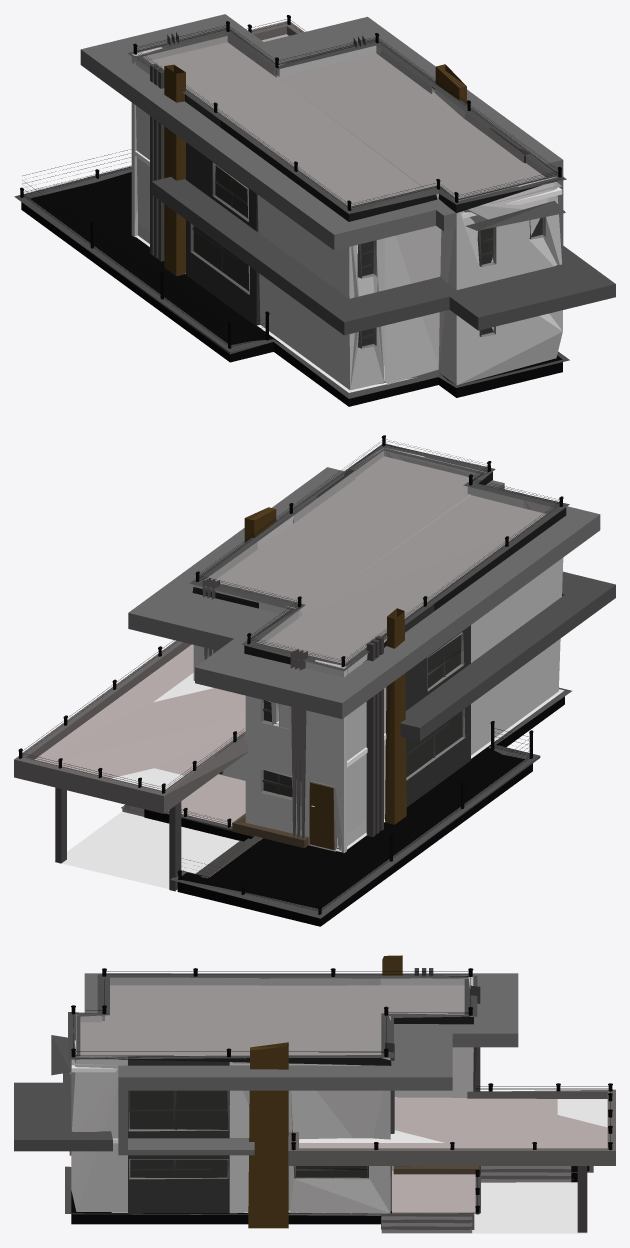
Rendered from house-7marla.glb.
3 renders of one model, top to bottom at view 1: azimuth 30°, elevation 25°; view 2: azimuth 150°, elevation 25°; view 3: azimuth 270°, elevation 25°, orthographic. The views are drawn at different scales.
Parts seen in each view (by area): view 1: Line013_Material #10_0; view 2: Line013_Material #10_0; view 3: Line013_Material #10_0.
Part boxes in pixels (<box>): Line013_Material #10_0: <box>14,14,615,406</box>; Line013_Material #10_0: <box>14,435,615,926</box>; Line013_Material #10_0: <box>14,955,615,1233</box>.
Bounding box in the file's own units: 9.14 × 6.5 × 19.35.
1 material, 1 textured.
